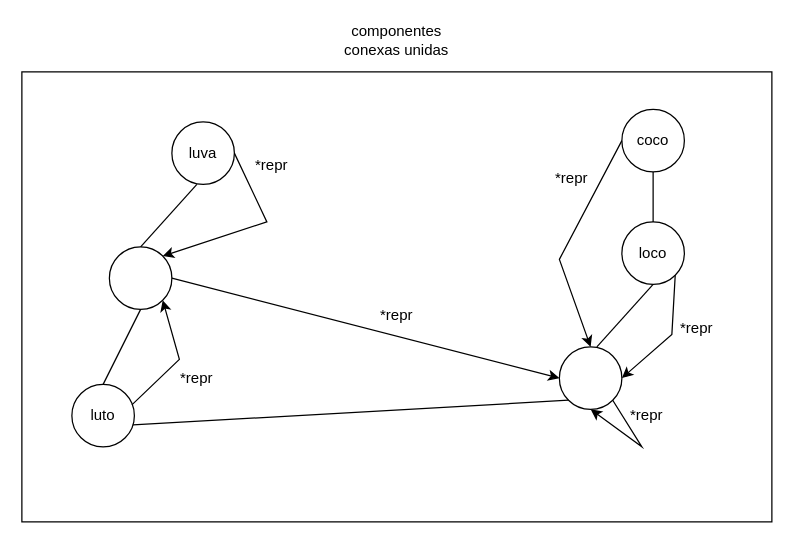
Image size: 794x544. Some labels were removed from this diagram. Here are the shapes that lost their labels. From the top down, the centre of each, then its label:
At [140,277]: "luta".
At [590,377]: "loto".
